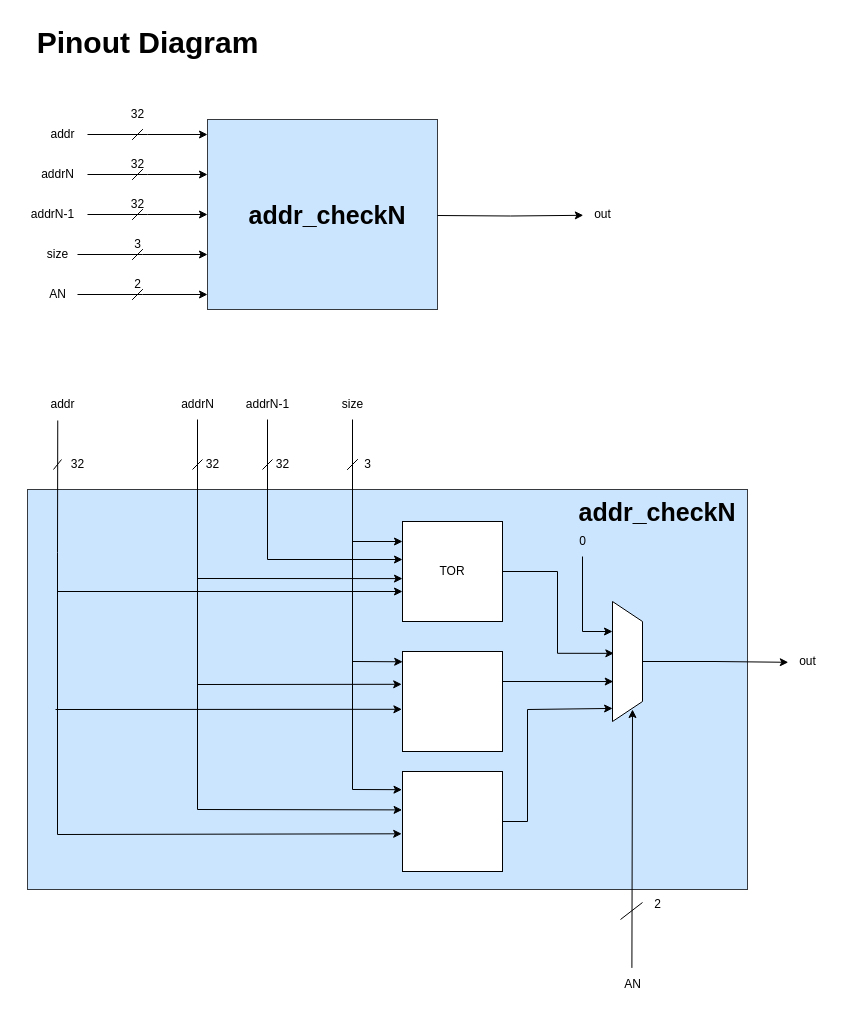
Image size: 844x1016. Some labels were removed from this diagram. Here are the shapes that lost their labels. From the top down, the centre of each, then its label:
At pixel 452 701: "NA4".
At pixel 452 821: "NAPOT".
